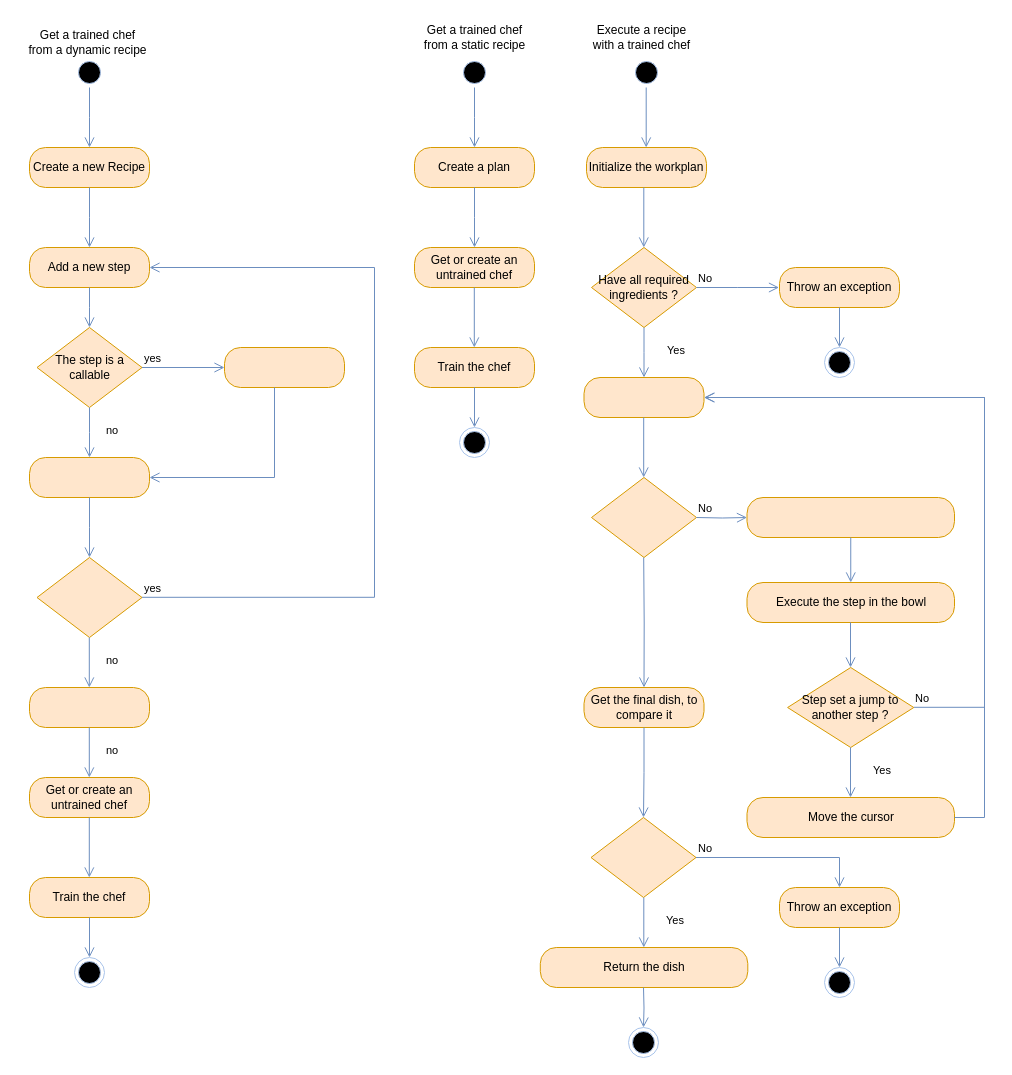
The diagram is 1012 pixels wide and 1075 high, and some of its shapes have lost their labels. The centre of each missing label's shape, as x and y in pixels:
"Convert to a standard Bowl" goes at pixel 284 367.
"Define the expected Dish" goes at pixel 89 707.
"Dish is valid ?" goes at pixel 643 857.
"Get the next step" goes at pixel 643 397.
"Have more steps ?" goes at pixel 89 597.
"Put ingredients from the workplan, from the callable arguments into the bowl" goes at pixel 850 517.
"Register the step" goes at pixel 89 477.
"Step is null ?" goes at pixel 643 517.
